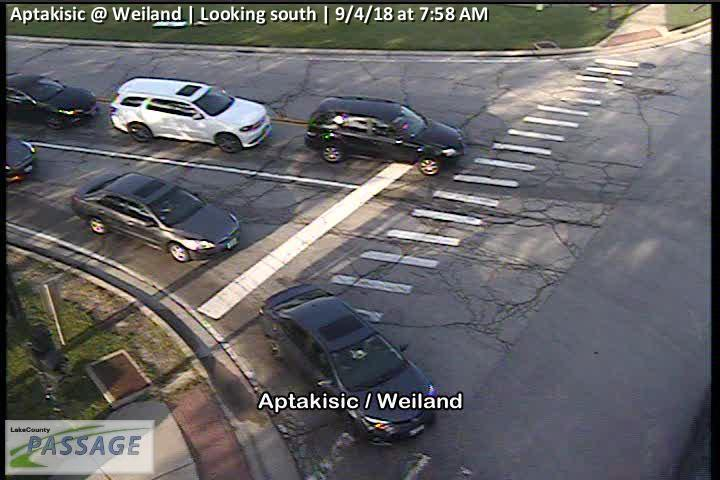SUV: (304, 97, 465, 176), (109, 77, 272, 152)
Sedan: (259, 284, 436, 446), (72, 171, 240, 263), (5, 75, 98, 132), (4, 135, 39, 186)
